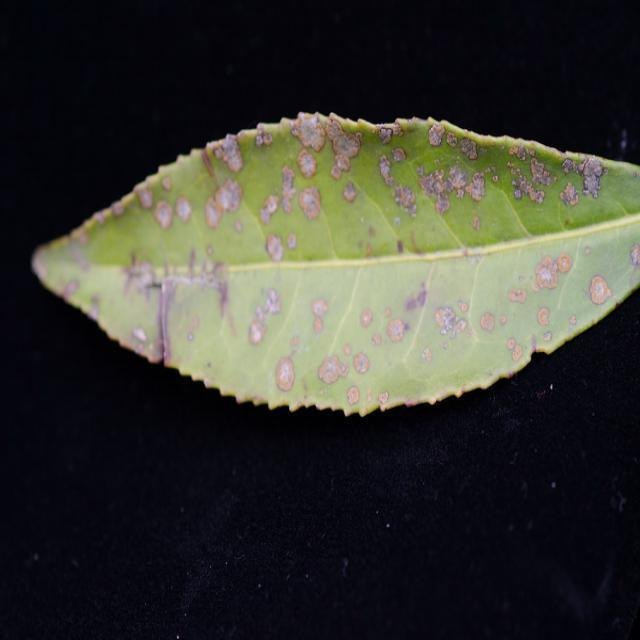Tea red rust: (78, 112, 597, 412)
